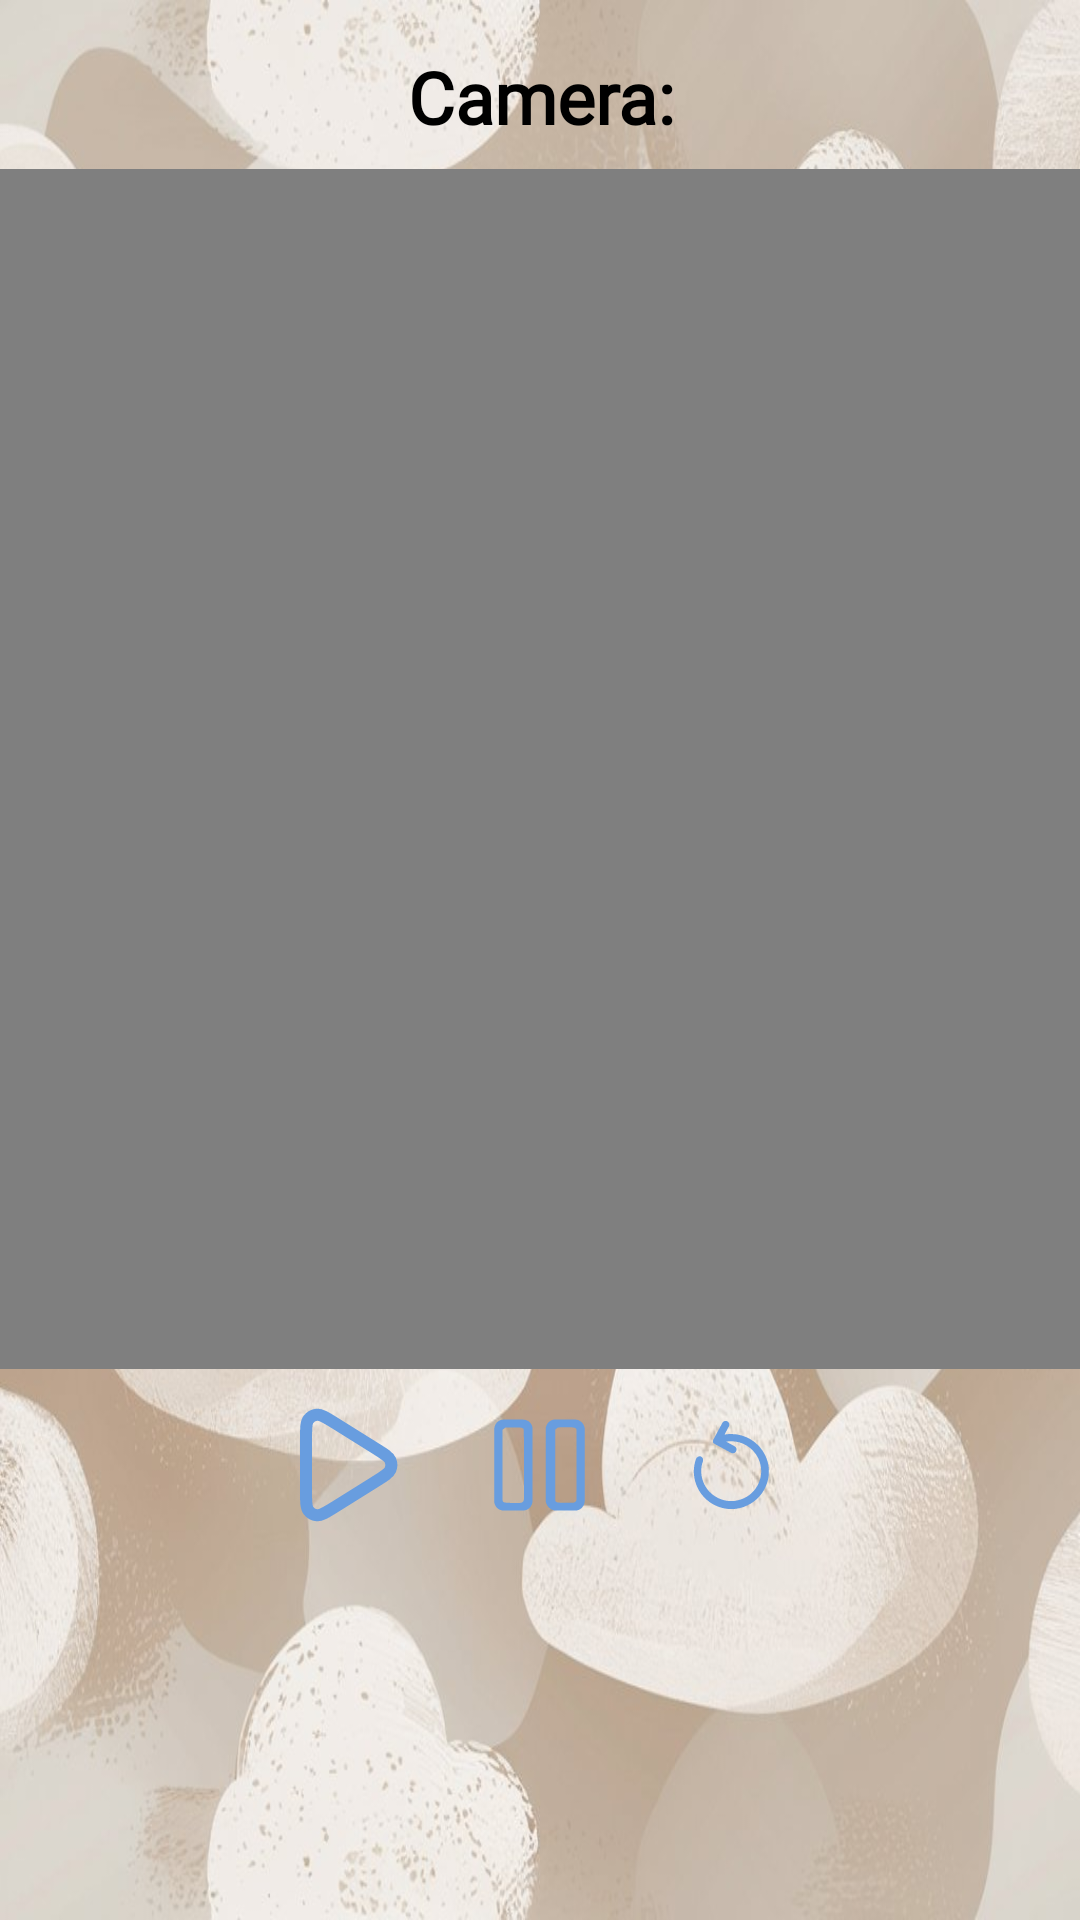

Point at icon controls on the screen. Image size 1080px×1920px, points as (x,y).
Pause: (540,1465)
Play: (348,1465)
Restart: (732,1465)
